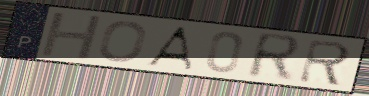0: (204, 30, 245, 75)
A: (142, 25, 194, 72)
H: (37, 11, 106, 61)
O: (96, 19, 149, 63)
R: (244, 30, 305, 84), (296, 38, 354, 88)
